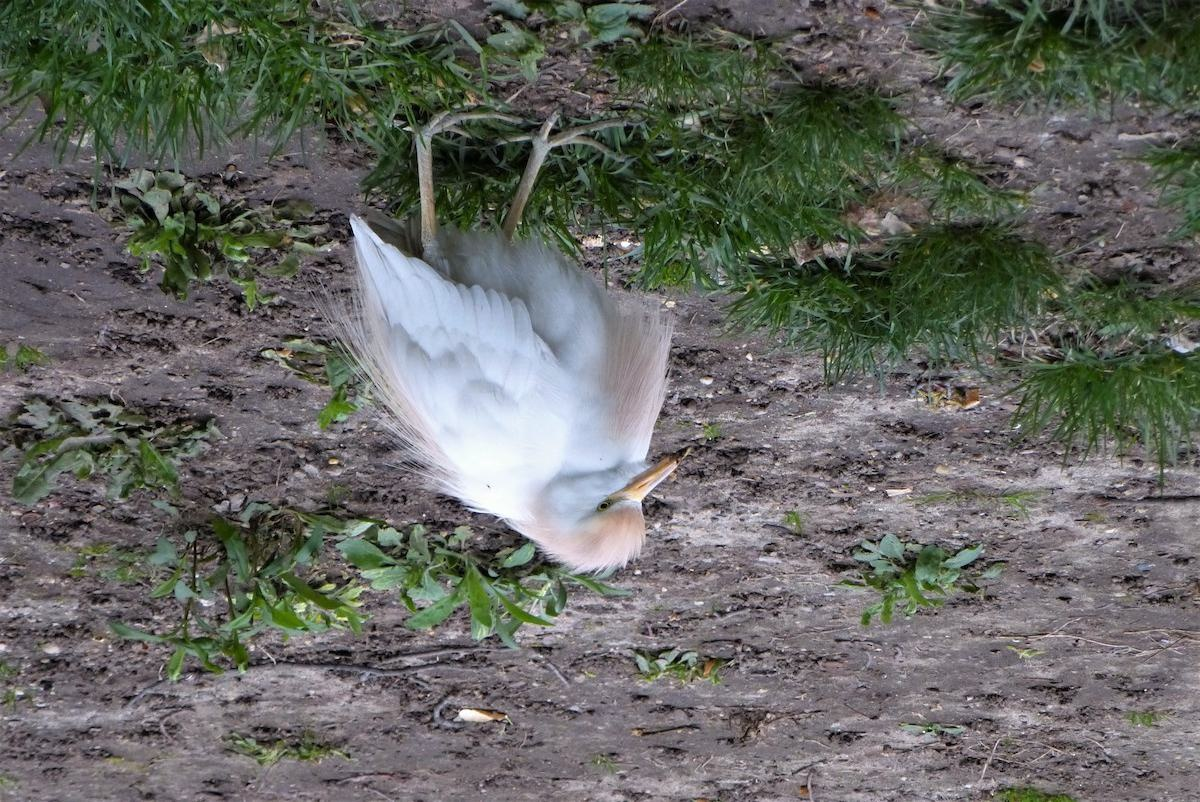egret: (355, 101, 695, 587)
